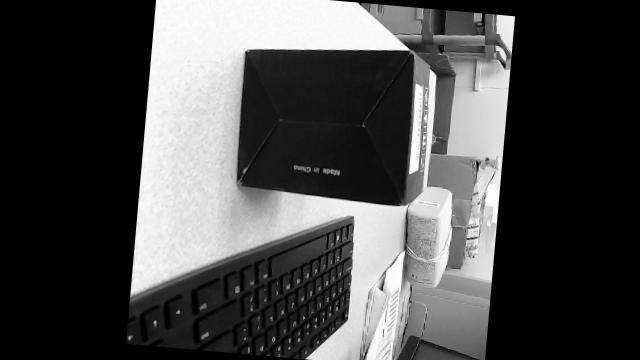CameraBox2: (234, 47, 432, 208)
